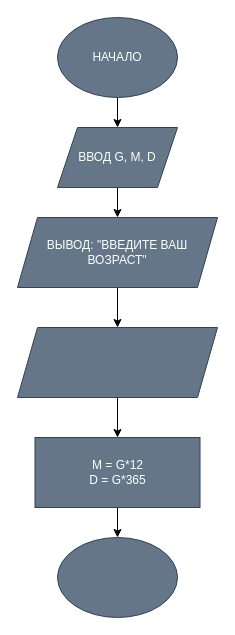
Image size: 235x635. Some labels were removed from this diagram. Each missing label, with the box of its shape:
ВВОД: ВОЗРАСТ: (16, 326, 218, 398)
КОНЕЦ: (56, 536, 178, 618)
